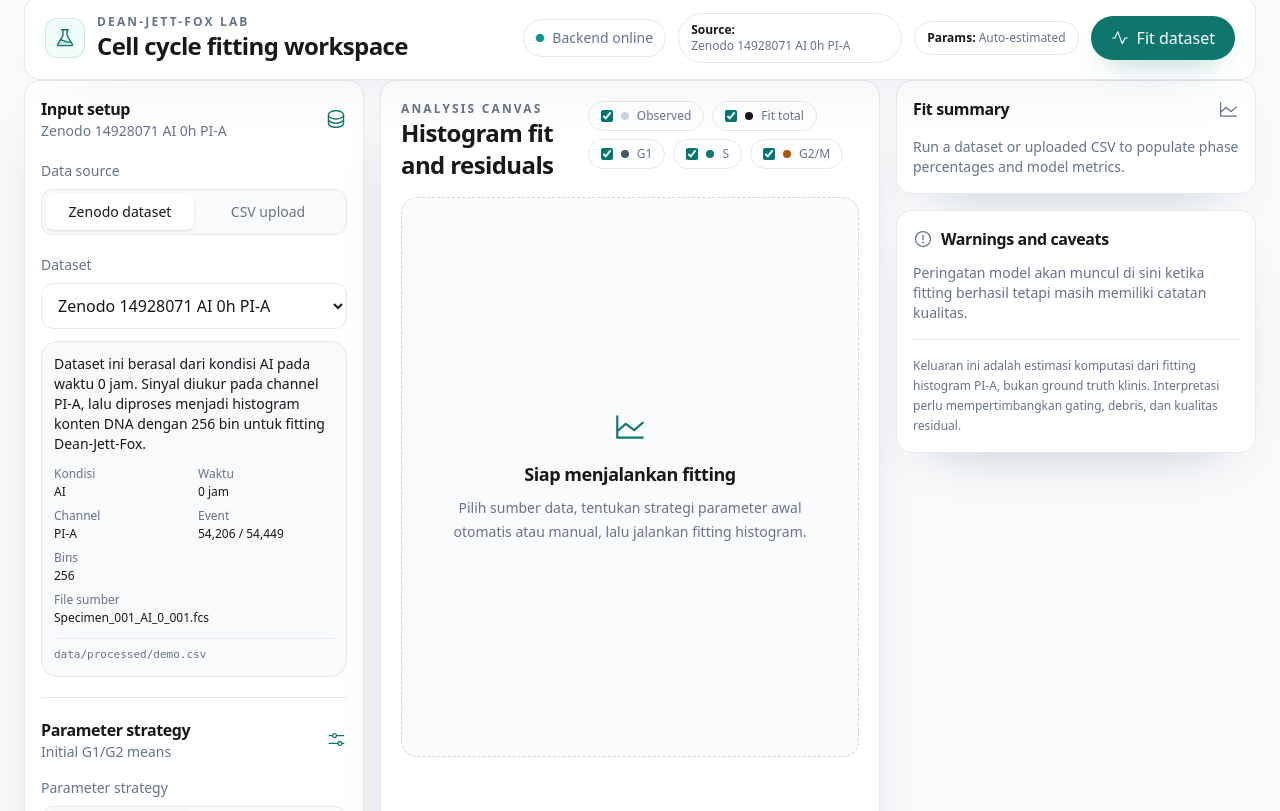
Test: App › loads demo datasets and renders a successful fit
Expected: the text "Backend online" is shown, [552,28,653,48]
Expected: the text "Data source" is shown, [41,161,120,180]
Click the button "Fit dataset". click: [1163, 38]
box: [1091,16,1235,60]
(page scrolled)
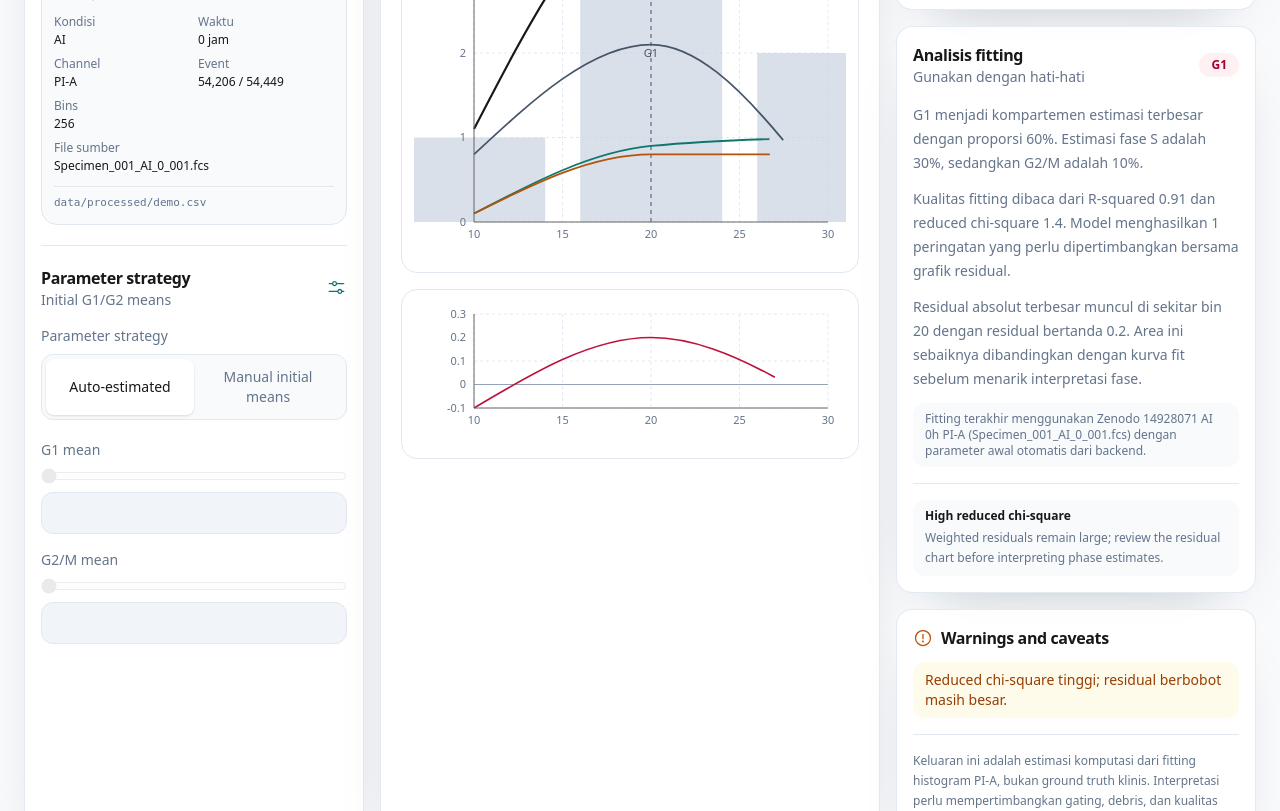
Result: the heading "Analisis fitting" is shown at [913,44,1023,66]
Result: the text "Gunakan dengan hati-hati" is shown at [913,67,1085,87]
Result: the text "Fitting terakhir menggunakan Zenodo 14928071 AI 0h PI-A" is shown at [925,410,1213,459]
